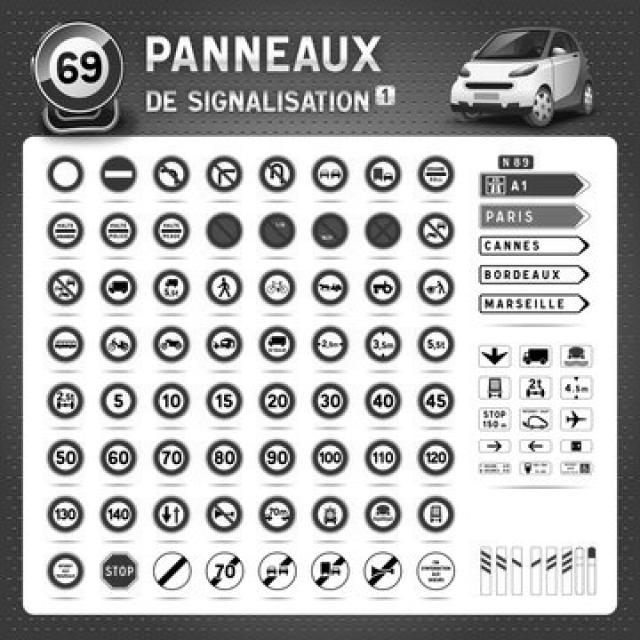forbidden: (309, 203, 324, 364)
